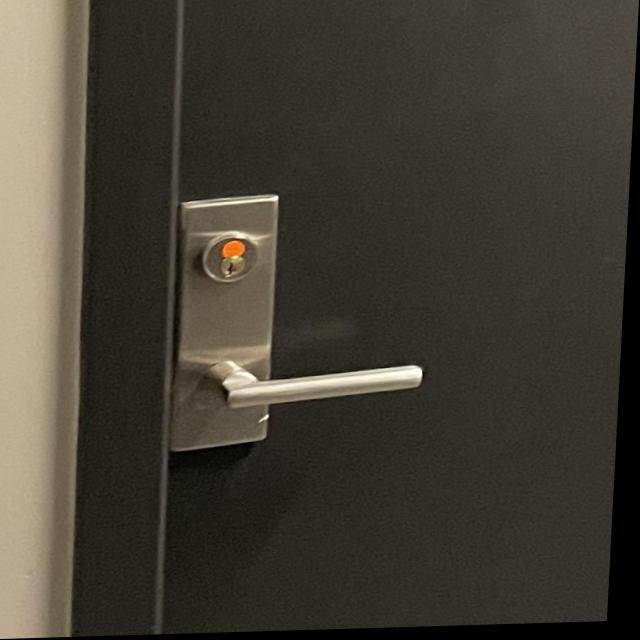door_handle: (178, 353, 440, 438)
